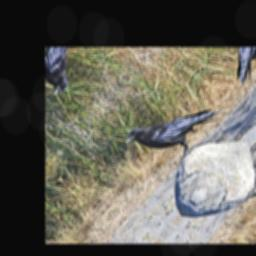Crow: (119, 80, 227, 177)
